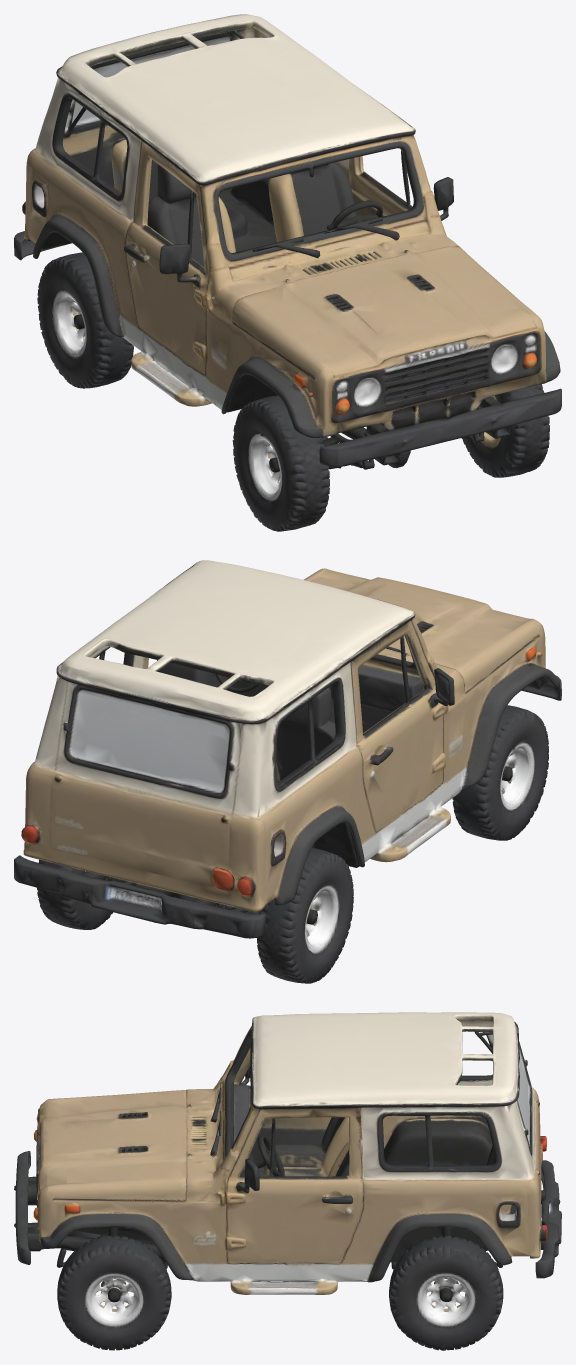
File: 026_suv_retro_tan_fj.glb
The picture shows the model from 3 angles, top to bottom: view 1: azimuth 30°, elevation 25°; view 2: azimuth 150°, elevation 25°; view 3: azimuth 270°, elevation 25°; orthographic projection. The views are drawn at different scales.
Visible parts, largest first — view 1: geometry_0; view 2: geometry_0; view 3: geometry_0.
Boxes of the visible parts, x1,y1,x2,y2 form: geometry_0: [14, 14, 561, 531]; geometry_0: [14, 560, 561, 983]; geometry_0: [14, 1012, 561, 1350].
Bounding box in the file's own units: 2.47 × 2.39 × 4.7.
Materials: 1 (1 with a texture image).
